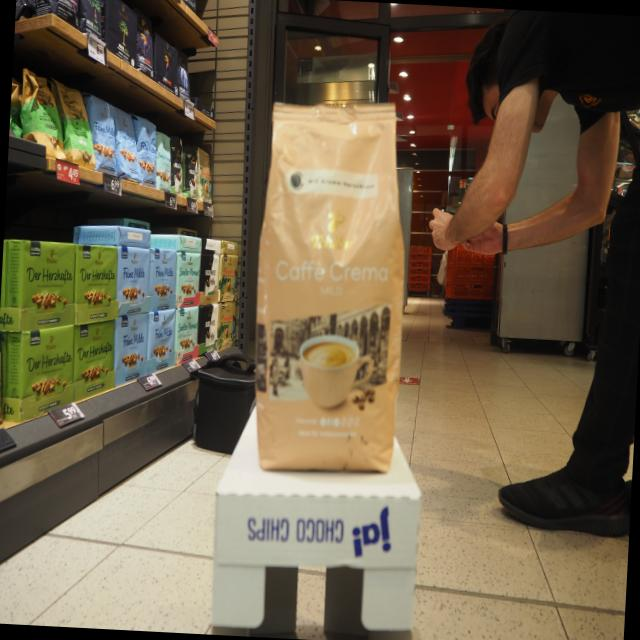CC Mild: (245, 93, 417, 483)
